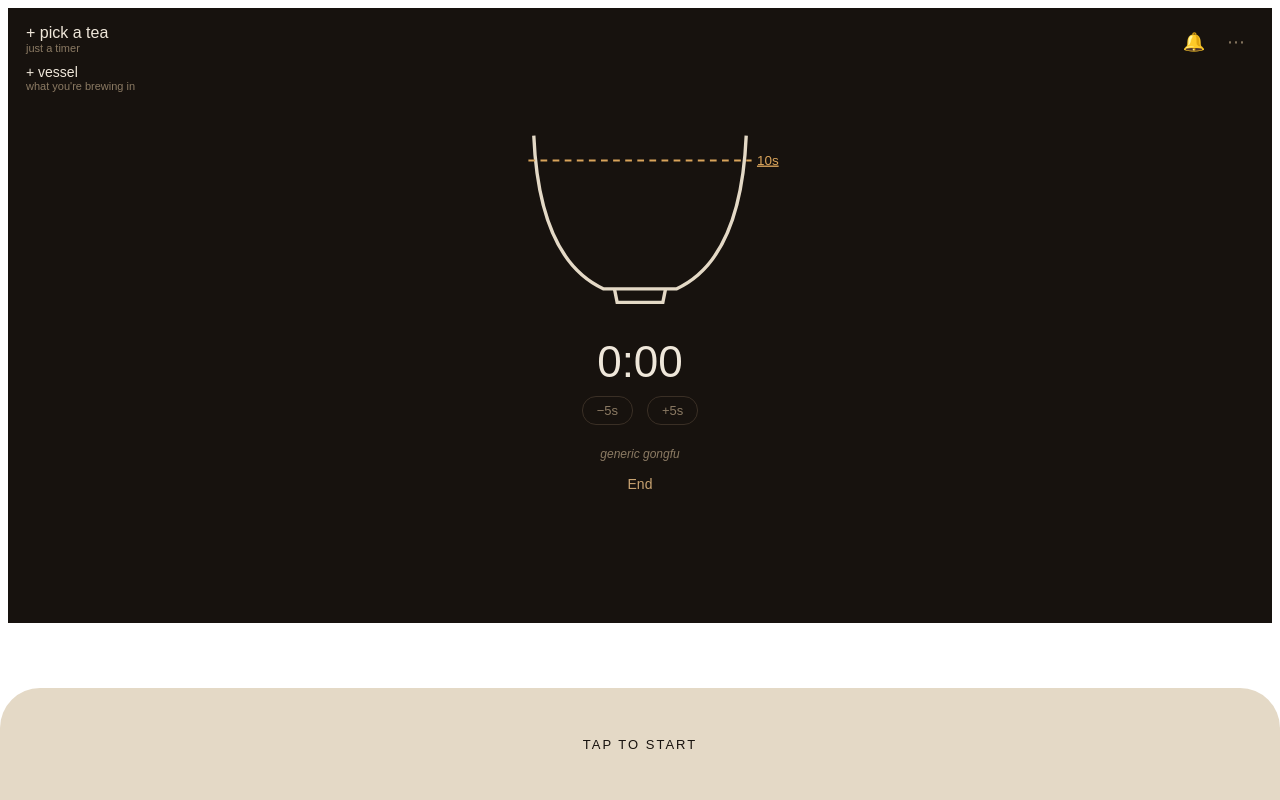
Test: TimerPage › shows the vessel, and picks another from the sheet
Click the button with test id "timer-vessel": (81, 78) [26,64,135,92]
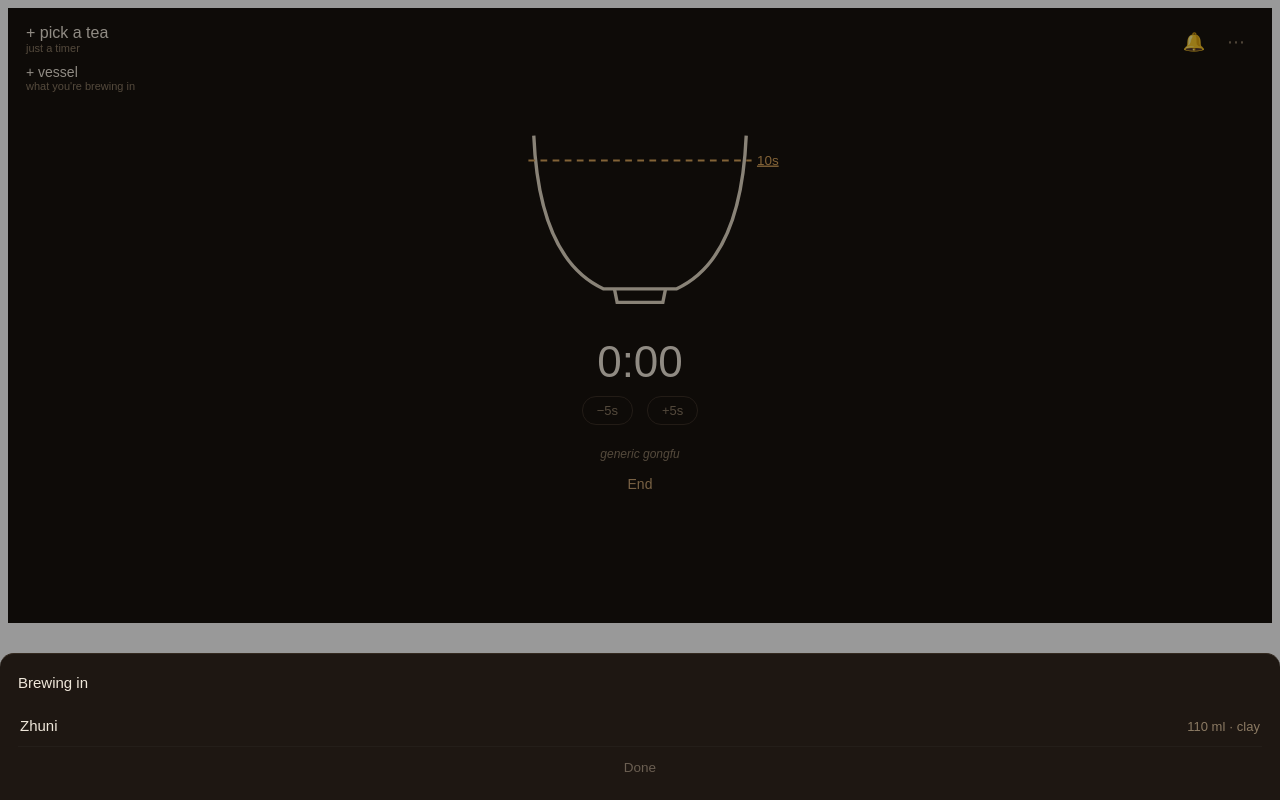
Click the button with test id "vessel-w-1": (39, 726) [18,705,1262,747]
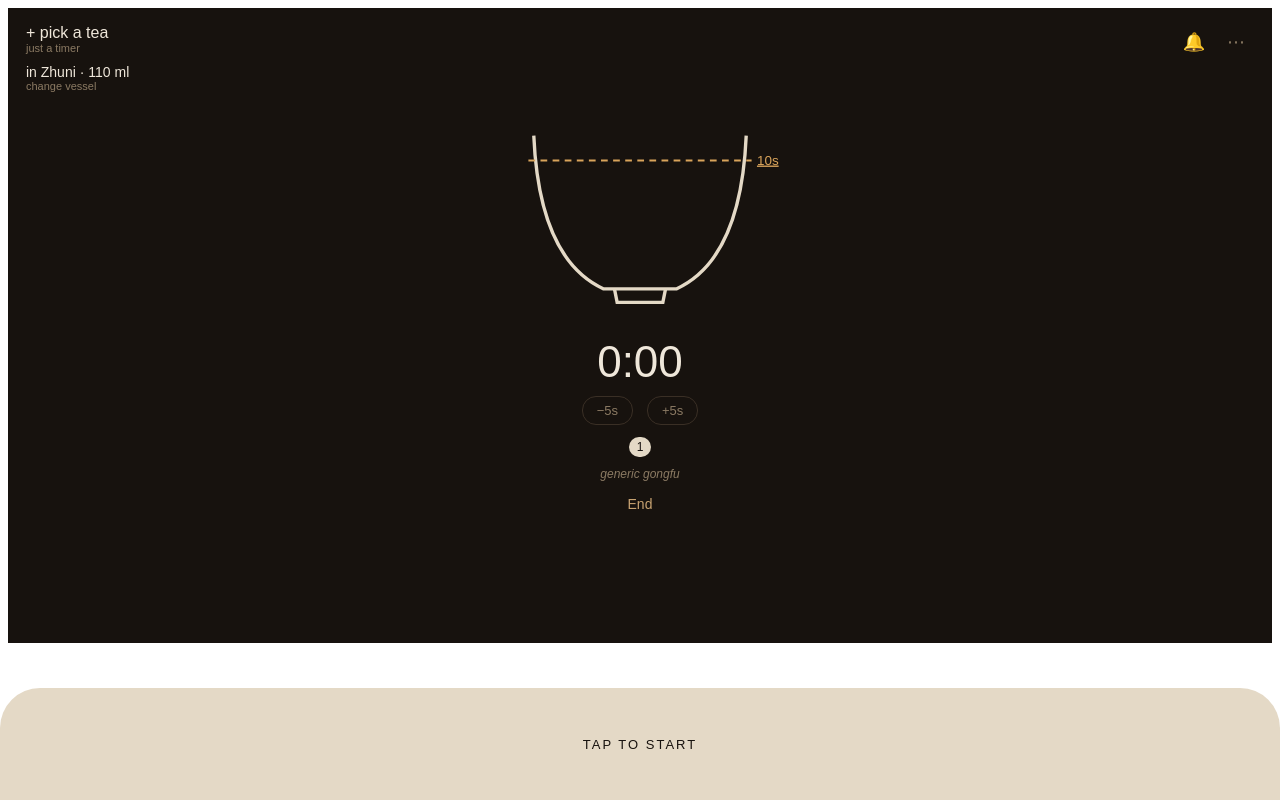
Expected: the button with test id "timer-vessel" shows "in Zhuni · 110 ml", [26,64,129,92]
